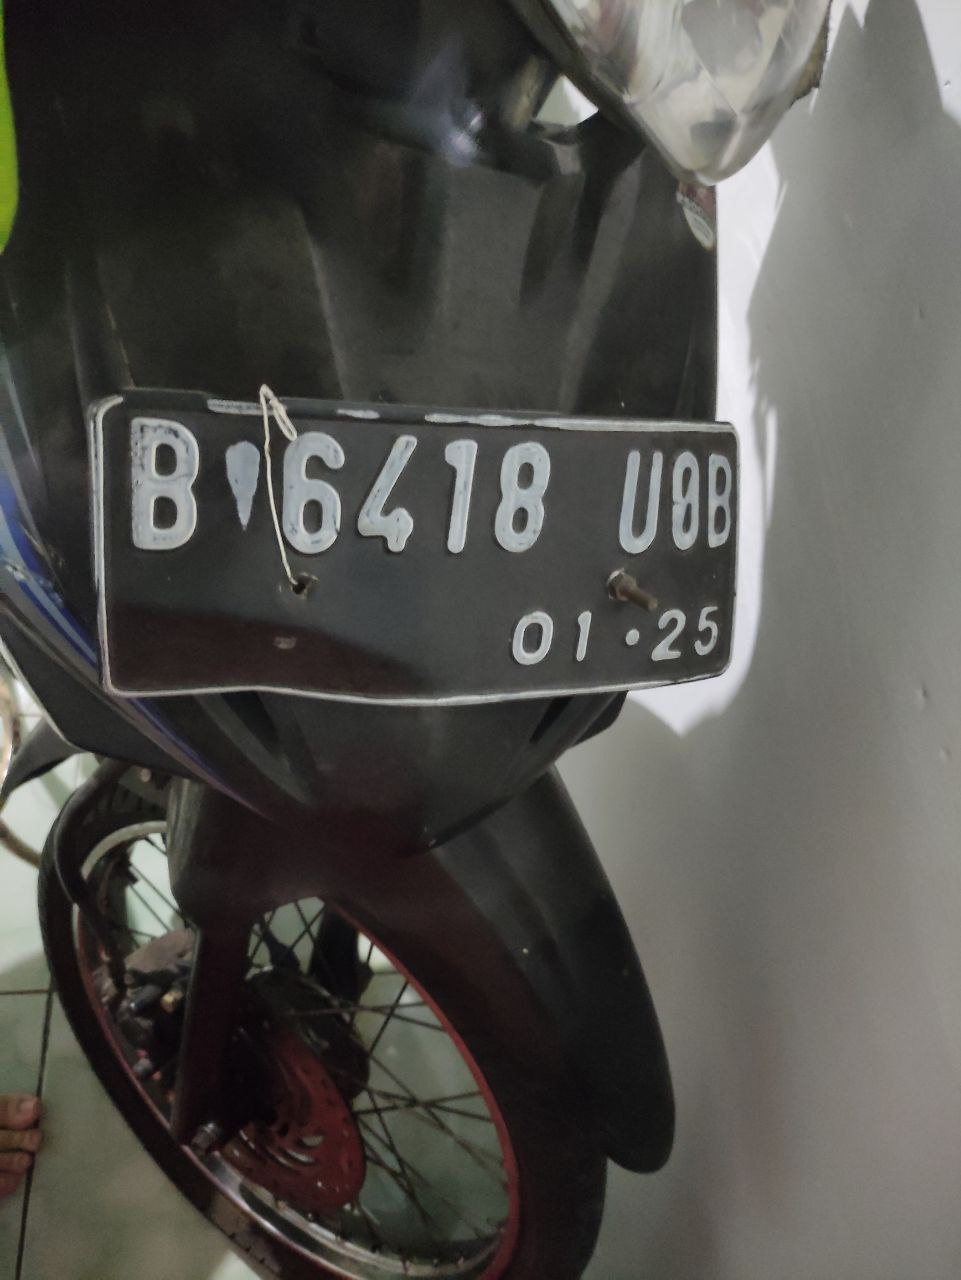plate: (103, 396, 735, 692)
